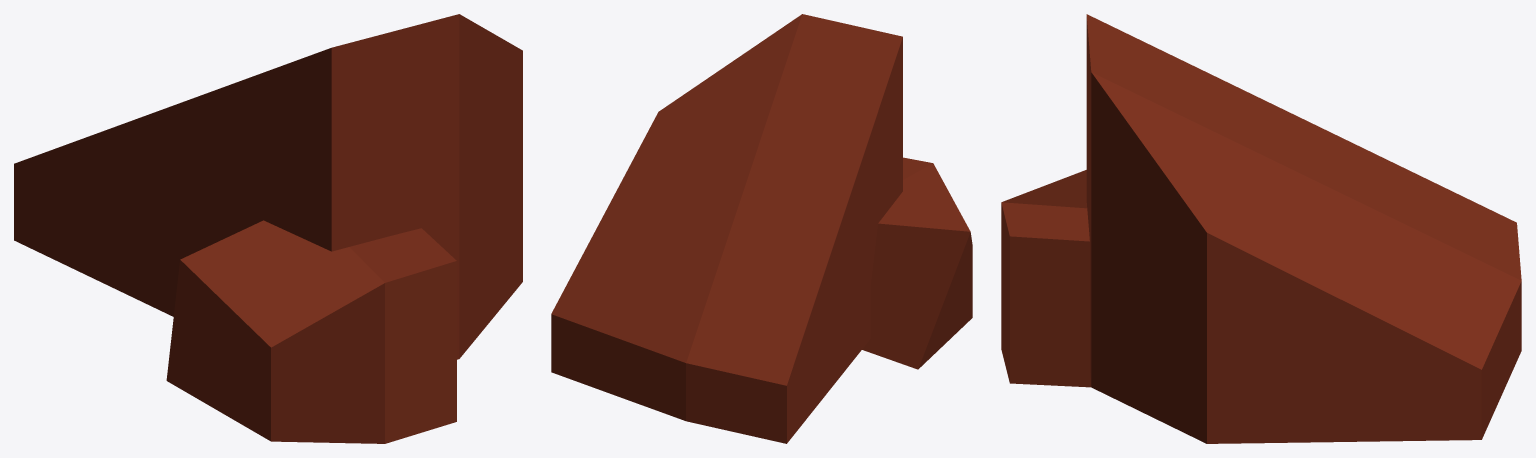
The model's file is lp_Rock_Type5_04_mesh_001_Cube_026.obj.
3 renders of one model, left to right at view 1: azimuth 30°, elevation 25°; view 2: azimuth 150°, elevation 25°; view 3: azimuth 270°, elevation 25°, orthographic. The views are drawn at different scales.
Parts seen in each view (by area): view 1: lp_Rock_Type5_04_mesh_001_Cube_026; view 2: lp_Rock_Type5_04_mesh_001_Cube_026; view 3: lp_Rock_Type5_04_mesh_001_Cube_026.
Part boxes in pixels (x1,y1,x2,y2): lp_Rock_Type5_04_mesh_001_Cube_026: [14, 14, 522, 443]; lp_Rock_Type5_04_mesh_001_Cube_026: [551, 14, 972, 443]; lp_Rock_Type5_04_mesh_001_Cube_026: [1001, 14, 1521, 443].
Size of the model in its own units: 2.22 by 2.04 by 2.9.
